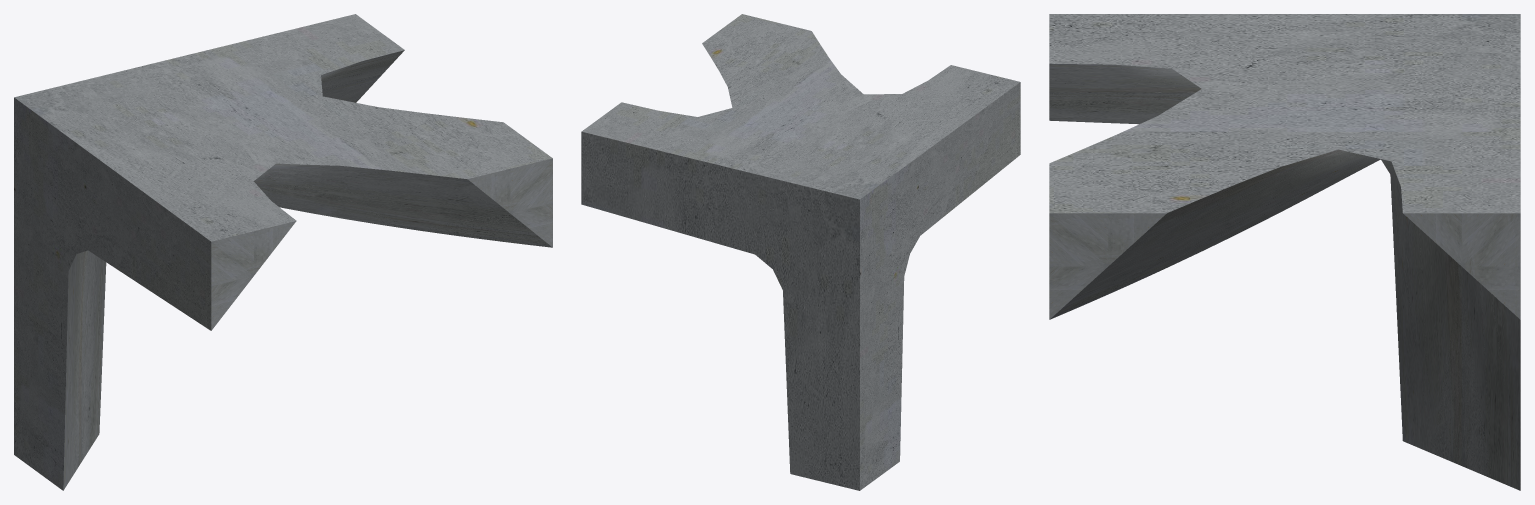
The model's file is module_J2.fbx.
3 views of the same model, side by side, from view 1: azimuth 30°, elevation 25°; view 2: azimuth 150°, elevation 25°; view 3: azimuth 270°, elevation 25° (orthographic). The views are drawn at different scales.
Visible parts, largest first — view 1: modules; view 2: modules; view 3: modules.
Boxes of the visible parts, bbox=[...] form: modules: bbox=[14, 14, 552, 490]; modules: bbox=[581, 14, 1020, 490]; modules: bbox=[1049, 14, 1520, 490].
Size of the model in its own units: 1000 by 1000 by 1000.
1 material, 1 textured.
